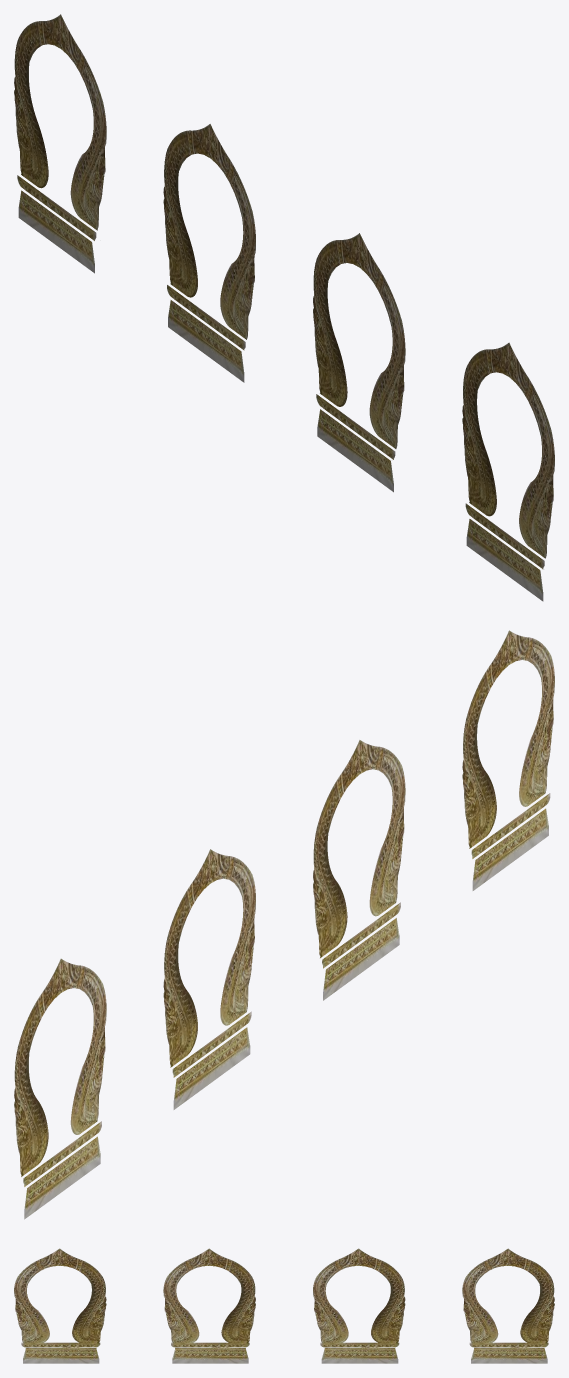
File: 05_openskp_material_124.obj
3 views of the same model, one above another, from view 1: azimuth 30°, elevation 25°; view 2: azimuth 150°, elevation 25°; view 3: azimuth 270°, elevation 25° (orthographic). The views are drawn at different scales.
Parts seen in each view (by area): view 1: 05_openskp_material_124; view 2: 05_openskp_material_124; view 3: 05_openskp_material_124.
Part boxes in pixels (<box>): 05_openskp_material_124: <box>14,14,554,601</box>; 05_openskp_material_124: <box>14,630,554,1219</box>; 05_openskp_material_124: <box>14,1248,554,1363</box>.
Size of the model in its own units: 0.513 by 13.17 by 55.72.
Materials: 1 (1 with a texture image).
